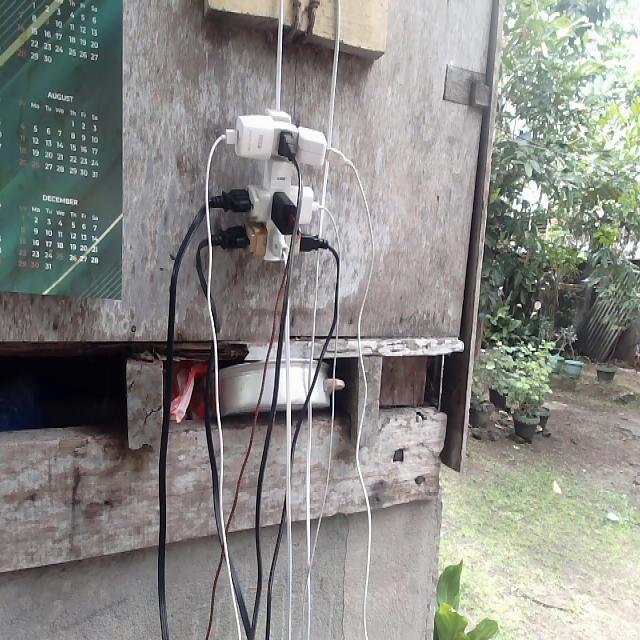-: (215, 105, 332, 264)
